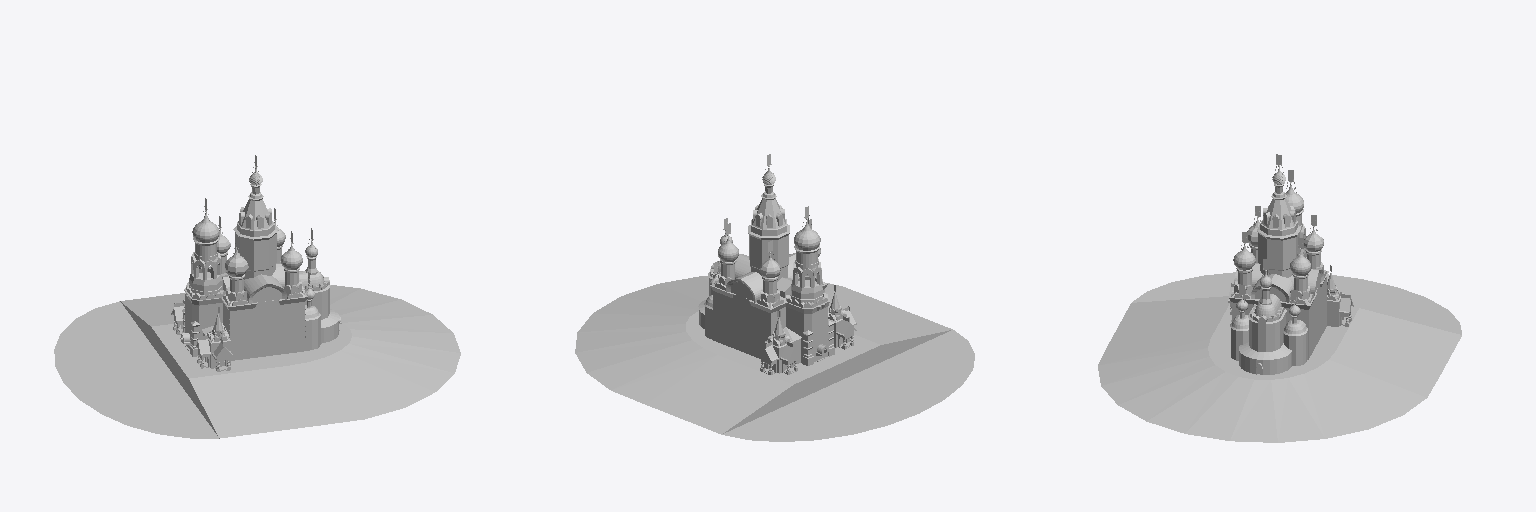
Rendered from Spas na krovi.obj.
3 views of the same model, side by side, from view 1: azimuth 30°, elevation 25°; view 2: azimuth 150°, elevation 25°; view 3: azimuth 270°, elevation 25° (orthographic).
Parts seen in each view (by area): view 1: Mesh1 UserTerrain Model, Mesh192 Corpo_Mezzo1 Corpo_Base Cathedral Model, Mesh163 Group85 Group81 Cathedral Model, Mesh9 CORPO_Torrione_Lato4 Corpo_Torrione Cathedral Model, Mesh11 CORPO_Torrione_Lato5 Corpo_Torrione Cathedral Model, Mesh219 CORPO_Luna1 Cathedral Model, Mesh142 Group74 Group72 Cathedral Model, Mesh143 Group75 Cathedral Model; view 2: Mesh1 UserTerrain Model, Mesh193 Corpo_Mezzo2 Corpo_Base Cathedral Model, Mesh163 Group85 Group81 Cathedral Model, Mesh17 CORPO_Torrione_Lato8 Corpo_Torrione Cathedral Model, Mesh13 CORPO_Torrione_Lato6 Corpo_Torrione Cathedral Model, Mesh15 CORPO_Torrione_Lato7 Corpo_Torrione Cathedral Model, Mesh143 Group75 Cathedral Model, Mesh142 Group74 Group72 Cathedral Model; view 3: Mesh1 UserTerrain Model, Mesh193 Corpo_Mezzo2 Corpo_Base Cathedral Model, Mesh5 CORPO_Torrione_Lato2 Corpo_Torrione Cathedral Model, Mesh3 CORPO_Torrione_Lato1 Corpo_Torrione Cathedral Model, Mesh21 Group11 Group10 Cathedral Model, Mesh373 Group258 Group257 ABSIDE_Absidiola2 Cathedral Model.
Part boxes in pixels (bbox=[...]): Mesh1 UserTerrain Model: bbox=[54, 285, 460, 438]; Mesh192 Corpo_Mezzo1 Corpo_Base Cathedral Model: bbox=[221, 297, 307, 360]; Mesh163 Group85 Group81 Cathedral Model: bbox=[184, 288, 222, 345]; Mesh9 CORPO_Torrione_Lato4 Corpo_Torrione Cathedral Model: bbox=[254, 186, 269, 276]; Mesh11 CORPO_Torrione_Lato5 Corpo_Torrione Cathedral Model: bbox=[239, 186, 255, 279]; Mesh219 CORPO_Luna1 Cathedral Model: bbox=[244, 274, 286, 303]; Mesh142 Group74 Group72 Cathedral Model: bbox=[189, 268, 222, 296]; Mesh143 Group75 Cathedral Model: bbox=[192, 212, 219, 243]; Mesh1 UserTerrain Model: bbox=[575, 276, 974, 441]; Mesh193 Corpo_Mezzo2 Corpo_Base Cathedral Model: bbox=[710, 286, 786, 358]; Mesh163 Group85 Group81 Cathedral Model: bbox=[786, 297, 829, 361]; Mesh17 CORPO_Torrione_Lato8 Corpo_Torrione Cathedral Model: bbox=[748, 185, 767, 275]; Mesh13 CORPO_Torrione_Lato6 Corpo_Torrione Cathedral Model: bbox=[770, 185, 789, 281]; Mesh15 CORPO_Torrione_Lato7 Corpo_Torrione Cathedral Model: bbox=[761, 186, 777, 262]; Mesh143 Group75 Cathedral Model: bbox=[794, 220, 820, 251]; Mesh142 Group74 Group72 Cathedral Model: bbox=[791, 277, 822, 302]; Mesh1 UserTerrain Model: bbox=[1098, 272, 1461, 442]; Mesh193 Corpo_Mezzo2 Corpo_Base Cathedral Model: bbox=[1281, 277, 1326, 359]; Mesh5 CORPO_Torrione_Lato2 Corpo_Torrione Cathedral Model: bbox=[1266, 186, 1282, 275]; Mesh3 CORPO_Torrione_Lato1 Corpo_Torrione Cathedral Model: bbox=[1280, 185, 1296, 277]; Mesh21 Group11 Group10 Cathedral Model: bbox=[1239, 351, 1291, 374]; Mesh373 Group258 Group257 ABSIDE_Absidiola2 Cathedral Model: bbox=[1283, 331, 1307, 365].
Bounding box in the file's own units: 131 × 71.89 × 118.